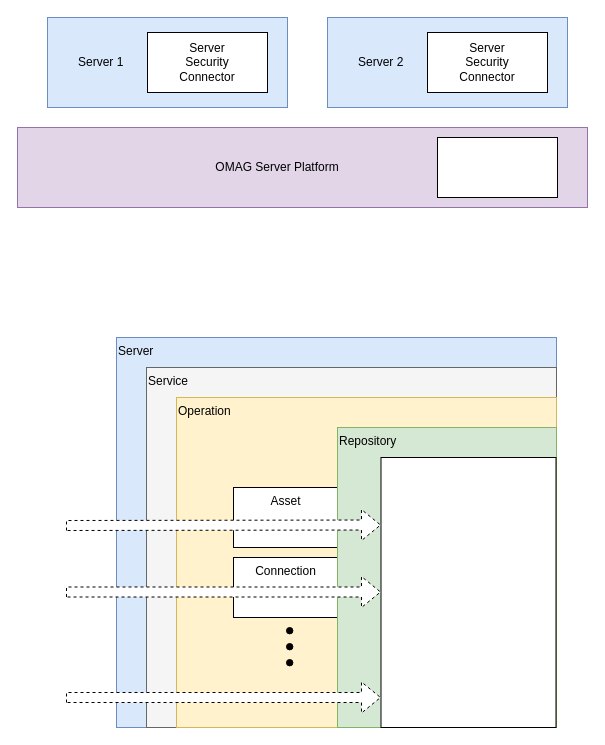
Some shapes in this 605 by 745 pixel diagram are drawn without their labels. Here are the shapes that lost their labels. From the top down, the centre of each, then its label:
At (x=497, y=167): "Platform Security Connector".
At (x=468, y=592): "Metadata".
